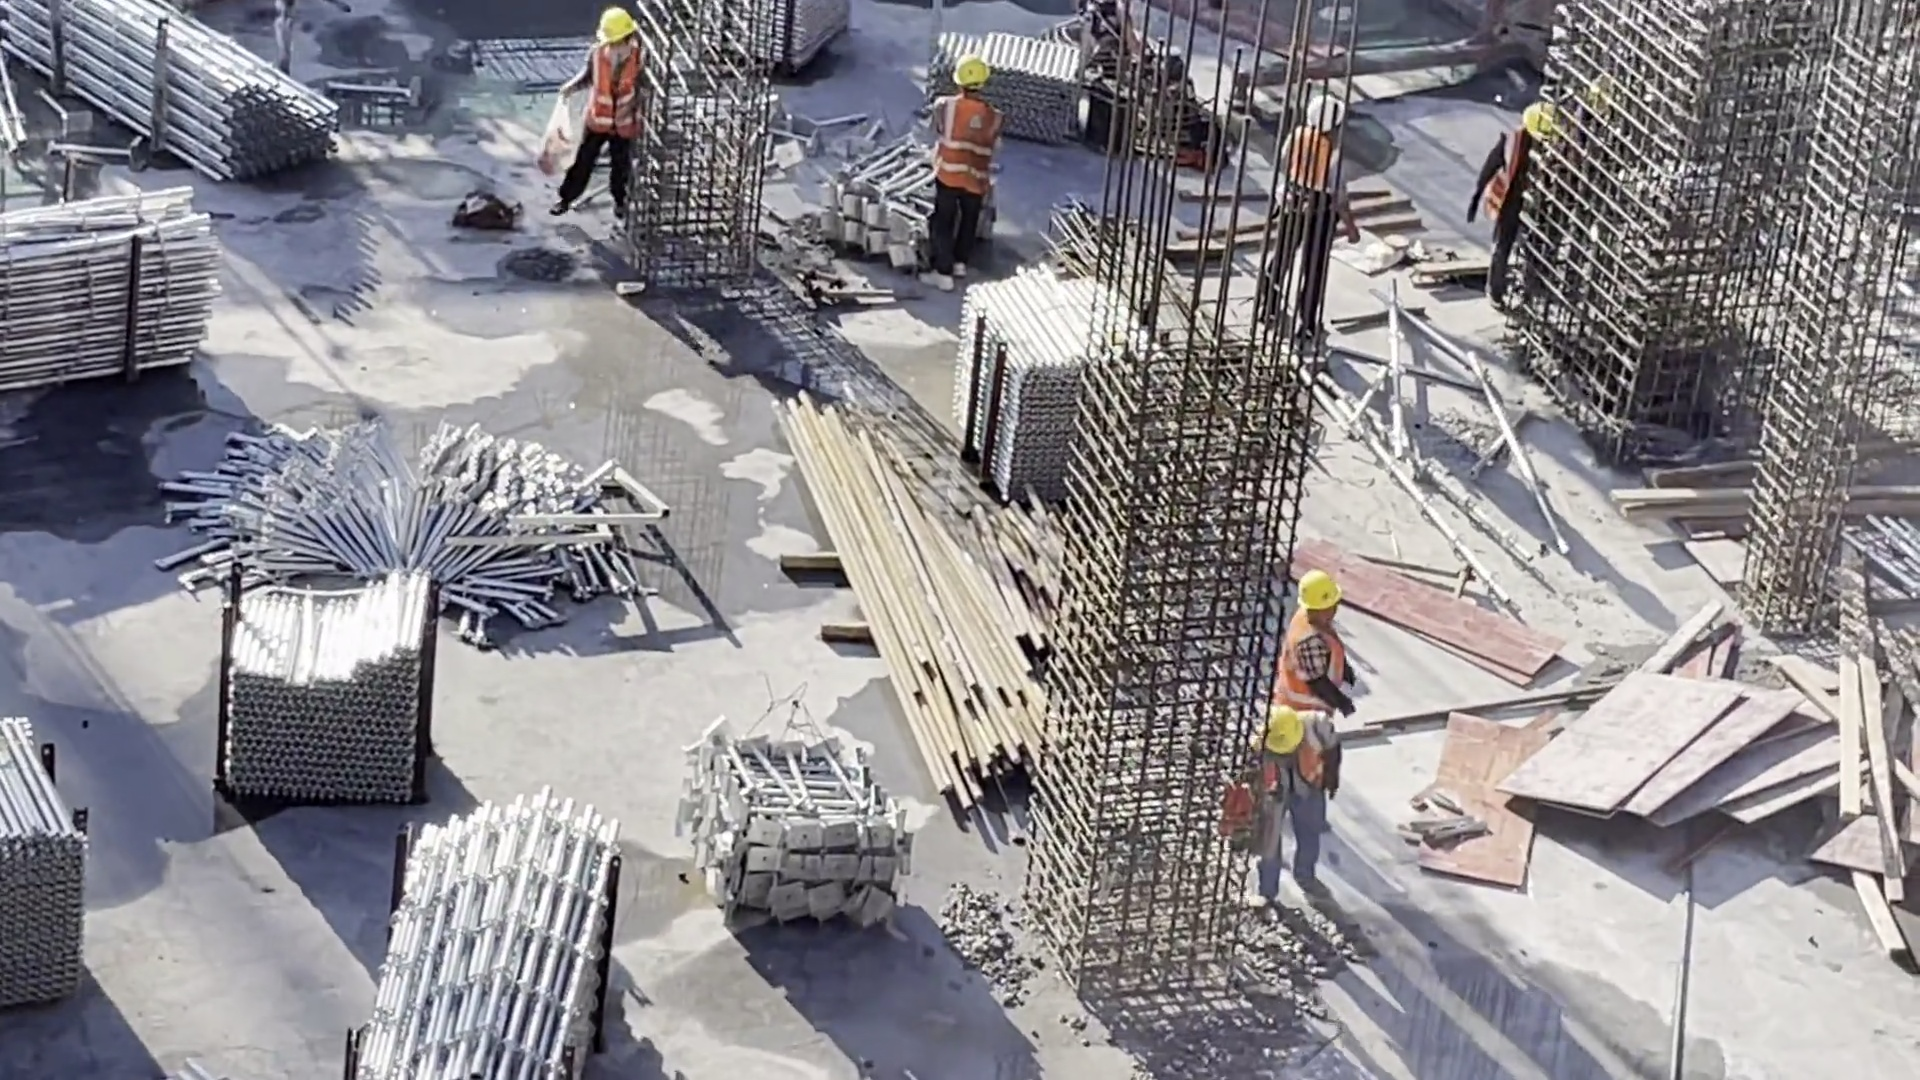board: (1305, 571, 1869, 934)
helmet: (1292, 87, 1363, 133), (1297, 570, 1346, 616), (586, 4, 631, 48), (1516, 102, 1565, 139), (948, 52, 989, 85)
person: (1236, 706, 1351, 900), (1262, 86, 1348, 342), (915, 56, 1003, 286), (1282, 546, 1355, 811), (573, 1, 652, 211), (1486, 94, 1562, 293)
rebar: (767, 376, 1081, 808)
scaffold: (338, 783, 625, 1080), (179, 564, 459, 826), (1, 3, 368, 187), (673, 686, 917, 932), (937, 276, 1190, 496), (1, 200, 209, 378), (1, 719, 100, 996), (912, 9, 1089, 142), (622, 1, 856, 87)
vest: (1281, 615, 1355, 733), (1485, 135, 1565, 239), (938, 96, 1001, 198), (586, 41, 648, 137), (1270, 130, 1330, 224)
